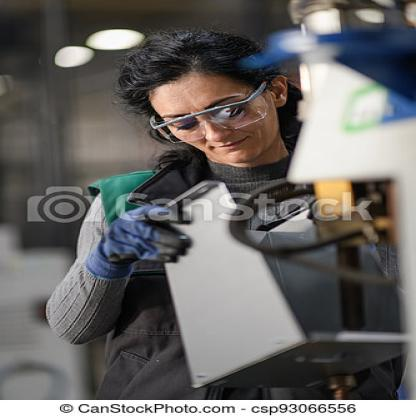oculos: (155, 92, 261, 144)
